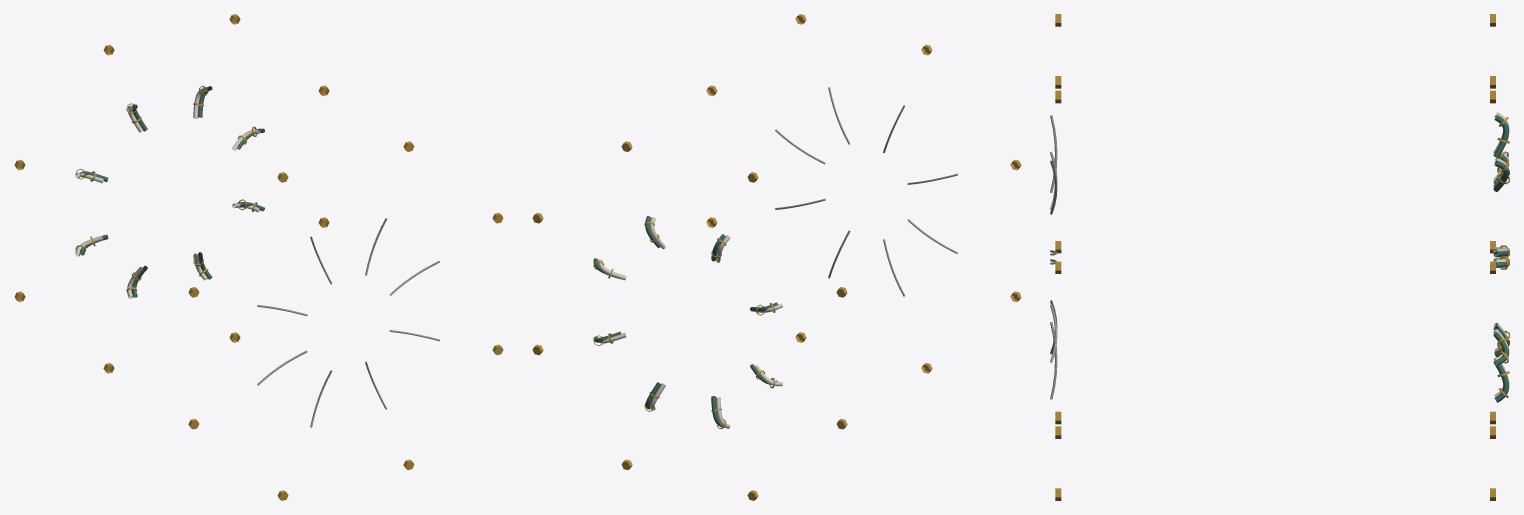
The model's file is h80_harness.obj.
3 renders of one model, left to right at view 1: azimuth 30°, elevation 25°; view 2: azimuth 150°, elevation 25°; view 3: azimuth 270°, elevation 25°, orthographic. The views are drawn at different scales.
Visible parts, largest first — view 1: h80_harness; view 2: h80_harness; view 3: h80_harness.
Part boxes in pixels (x1,y1,x2,y2): h80_harness: (14,14,503,500); h80_harness: (532,14,1021,500); h80_harness: (1050,14,1509,500).
Bounding box in the file's own units: 4.56 × 4.55 × 4.65.
